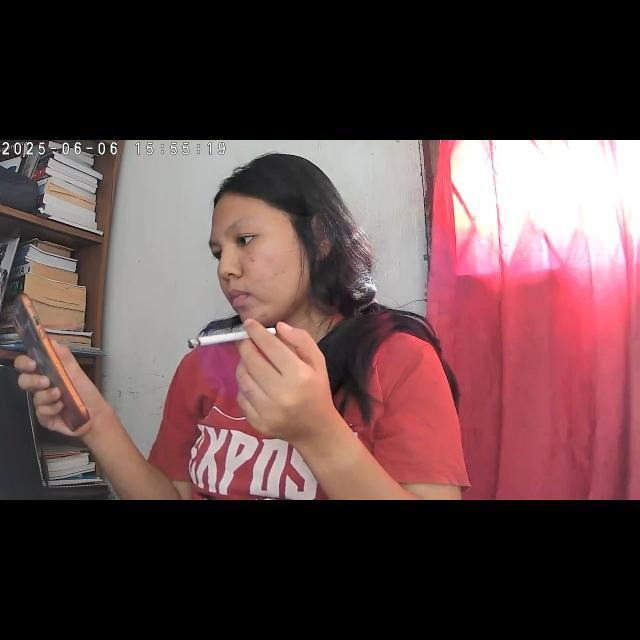rokok: (186, 324, 278, 352)
